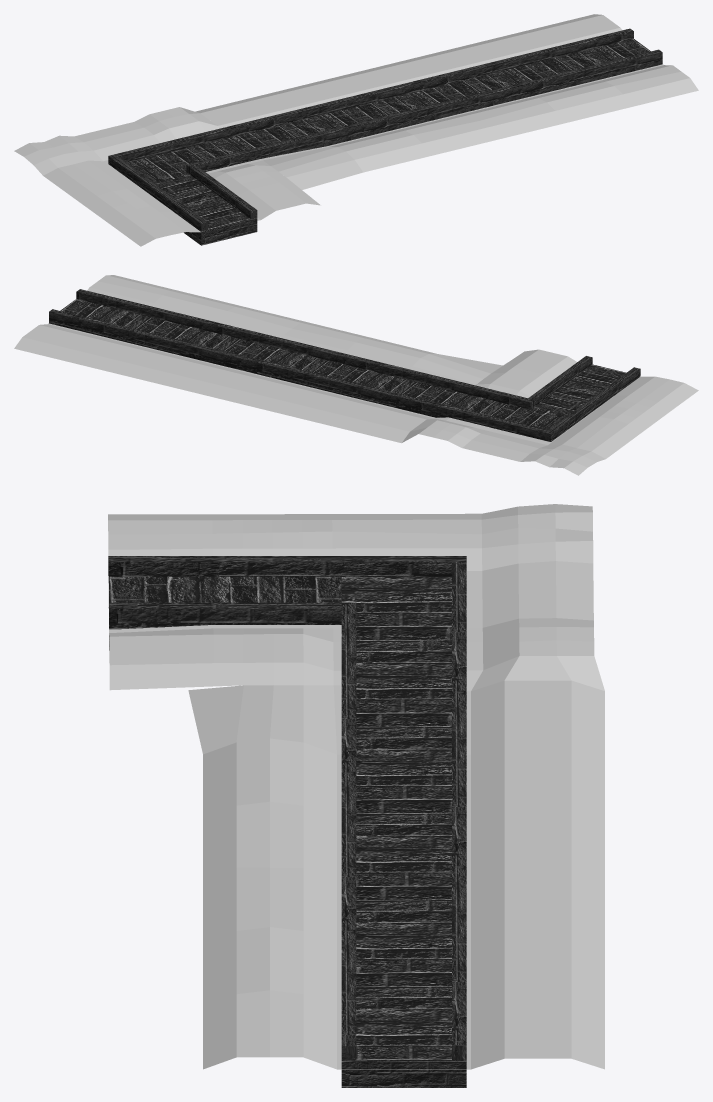
File: LEFT.fbx
The picture shows the model from 3 angles, top to bottom: view 1: azimuth 30°, elevation 25°; view 2: azimuth 150°, elevation 25°; view 3: azimuth 270°, elevation 25°; orthographic projection. The views are drawn at different scales.
Parts seen in each view (by area): view 1: Plane.003, Plane.004, Plane.005, Cube.017, Cube.019, Cube.018, Cube.016, Cube.021, Cube.020; view 2: Plane.003, Plane.004, Plane.005, Cube.017, Cube.019, Cube.018, Cube.016, Cube.021, Cube.020; view 3: Plane.005, Plane.004, Plane.003, Cube.017, Cube.019, Cube.018, Cube.021, Cube.016, Cube.020.
Part boxes in pixels (x1,y1,x2,y2): Plane.003: (14, 107, 320, 246); Plane.004: (195, 63, 496, 189); Plane.005: (393, 14, 698, 139); Cube.017: (108, 39, 662, 187); Cube.019: (115, 28, 633, 162); Cube.018: (186, 49, 662, 174); Cube.016: (140, 175, 257, 245); Cube.021: (108, 154, 207, 231); Cube.020: (190, 166, 257, 218); Plane.003: (402, 349, 698, 475); Plane.004: (209, 322, 502, 443); Plane.005: (14, 275, 308, 395); Cube.017: (49, 299, 581, 441); Cube.019: (49, 309, 547, 439); Cube.018: (76, 289, 534, 409); Cube.016: (535, 364, 640, 418); Cube.021: (544, 367, 640, 441); Cube.020: (528, 356, 592, 406); Plane.005: (203, 867, 604, 1069); Plane.004: (188, 680, 604, 879); Plane.003: (108, 504, 604, 691); Cube.017: (341, 576, 466, 1087); Cube.019: (452, 562, 466, 1060); Cube.018: (341, 602, 356, 1060); Cube.021: (108, 556, 466, 576); Cube.016: (108, 576, 341, 650); Cube.020: (109, 602, 341, 623).
Size of the model in its own units: 9413 by 337 by 3609.
